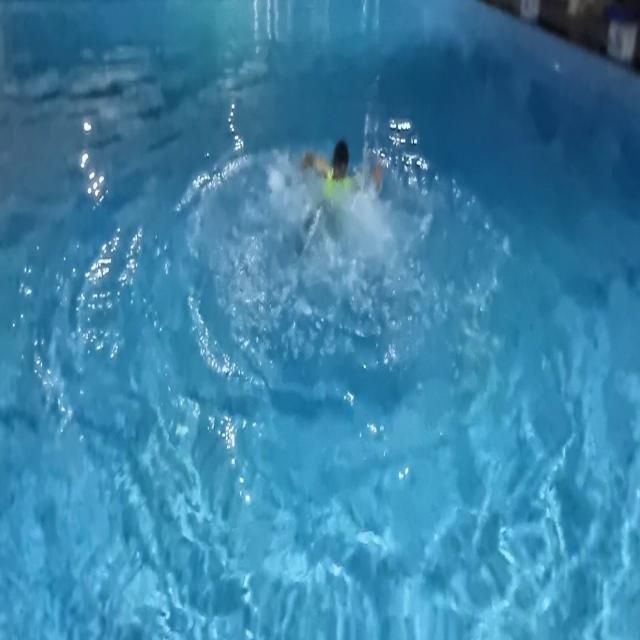Drowning: (276, 98, 428, 302)
